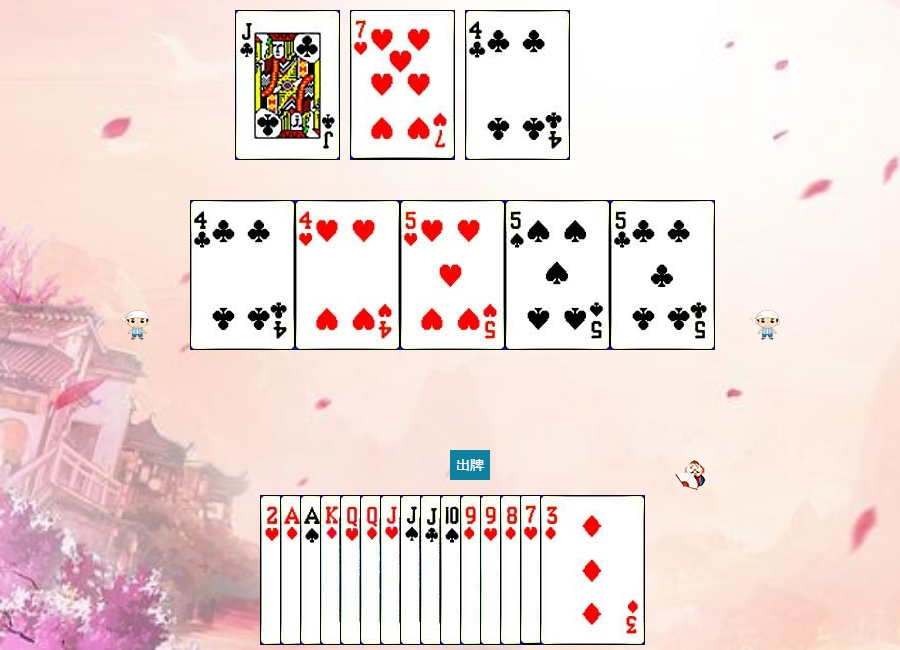10~4: (440, 495, 545, 645)
11~2: (235, 10, 340, 160), (420, 495, 525, 645)
11~3: (380, 495, 485, 645)
11~4: (400, 495, 505, 645)
12~1: (360, 495, 465, 645)
12~3: (340, 495, 445, 645)
13~1: (320, 495, 425, 645)
14~1: (280, 495, 385, 645)
14~4: (300, 495, 405, 645)
15~3: (260, 495, 365, 645)
3~1: (540, 495, 645, 645)
4~2: (465, 10, 570, 160), (190, 200, 295, 350)
4~3: (295, 200, 400, 350)
5~2: (610, 200, 715, 350)
5~3: (400, 200, 505, 350)
5~4: (505, 200, 610, 350)
7~3: (350, 10, 455, 160), (520, 495, 625, 645)
8~1: (500, 495, 605, 645)
9~1: (460, 495, 565, 645)
9~3: (480, 495, 585, 645)
